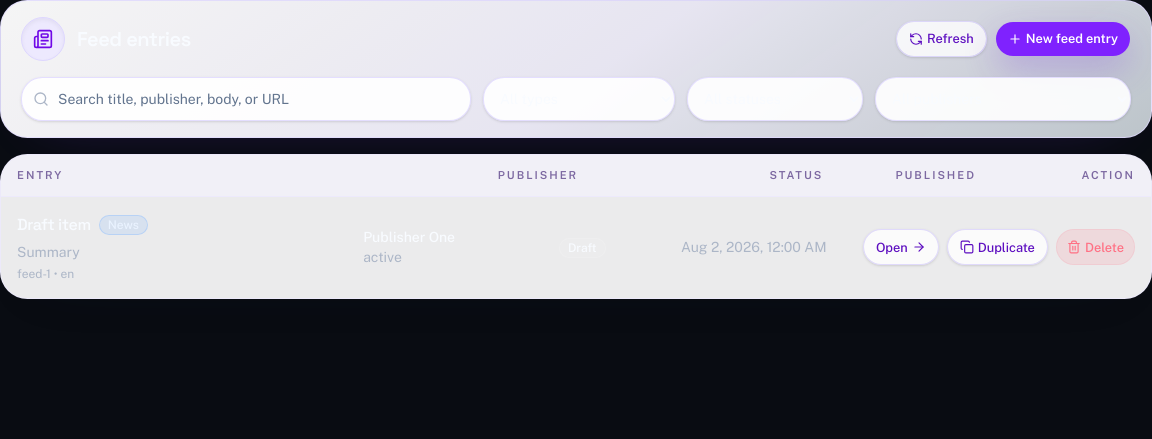
Test case: DiscoverFeedEntryBrowser route base › uses filter-specific empty copy and keeps creation in the header
The width and height of the screenshot is (1152, 439).
Type "not present" into the field with placeholder "Search title, publisher, body, or URL" at (246, 99), box x1=21 y1=77 x2=471 y2=121
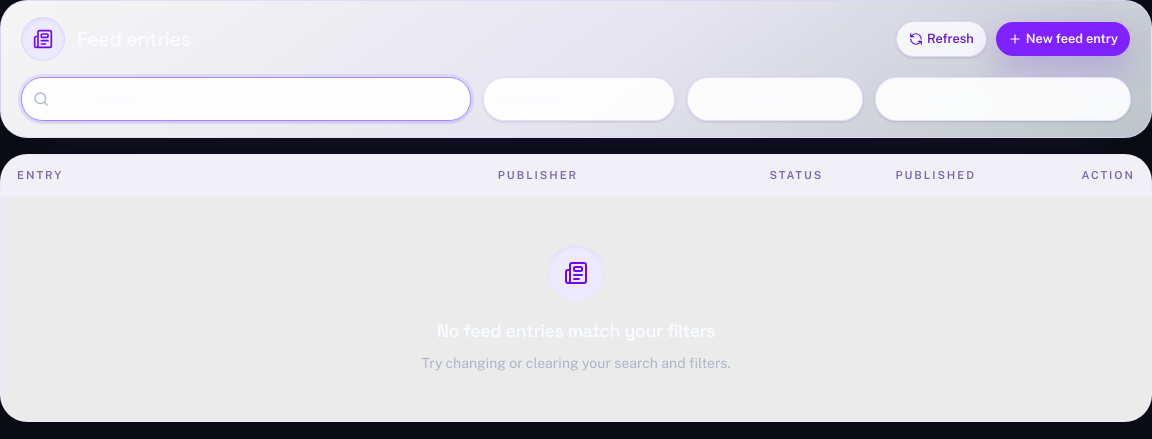
Now the text "Try changing or clearing your search and filters." is shown, box x1=421 y1=355 x2=731 y2=371
Now the link "Open" is gone
